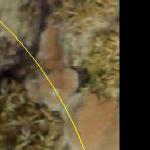alive: (2, 1, 116, 147)
